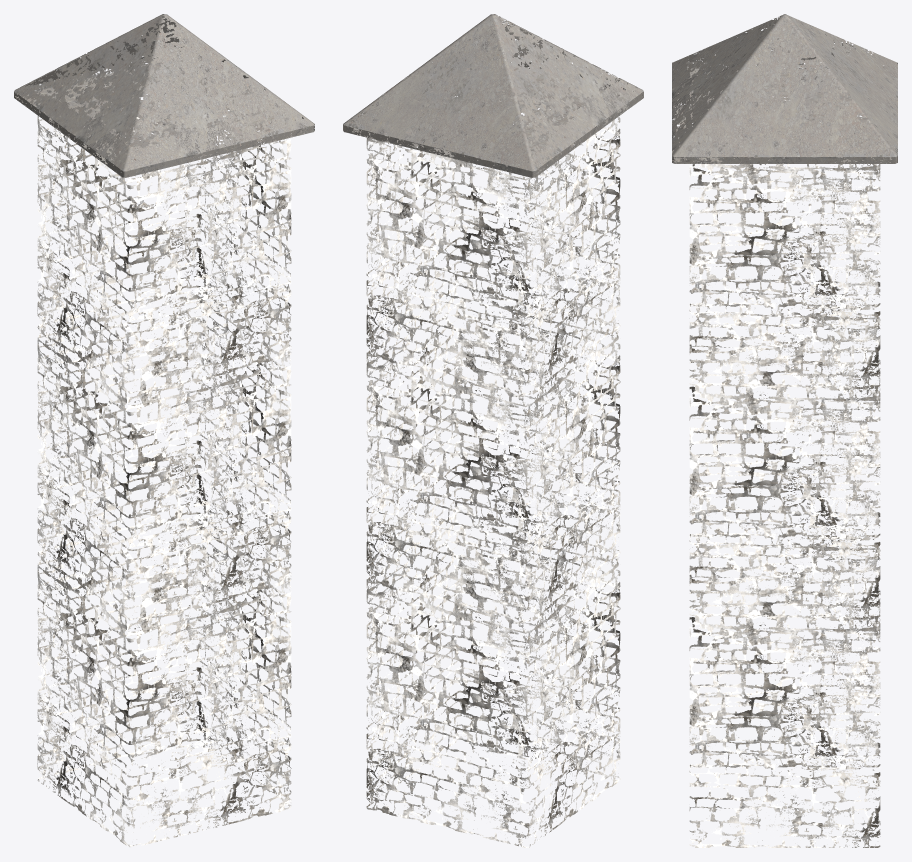
The model's file is SM_fence_column_02.fbx.
3 views of the same model, side by side, from view 1: azimuth 30°, elevation 25°; view 2: azimuth 150°, elevation 25°; view 3: azimuth 270°, elevation 25° (orthographic).
Visible parts, largest first — view 1: SM_fence_column_02_LOD0; view 2: SM_fence_column_02_LOD0; view 3: SM_fence_column_02_LOD0.
Part boxes in pixels (bbox=[...]): SM_fence_column_02_LOD0: bbox=[14, 14, 314, 847]; SM_fence_column_02_LOD0: bbox=[343, 14, 643, 847]; SM_fence_column_02_LOD0: bbox=[672, 14, 897, 847].
Bounding box in the file's own units: 178 × 178 × 688.
2 materials, 2 textured.
